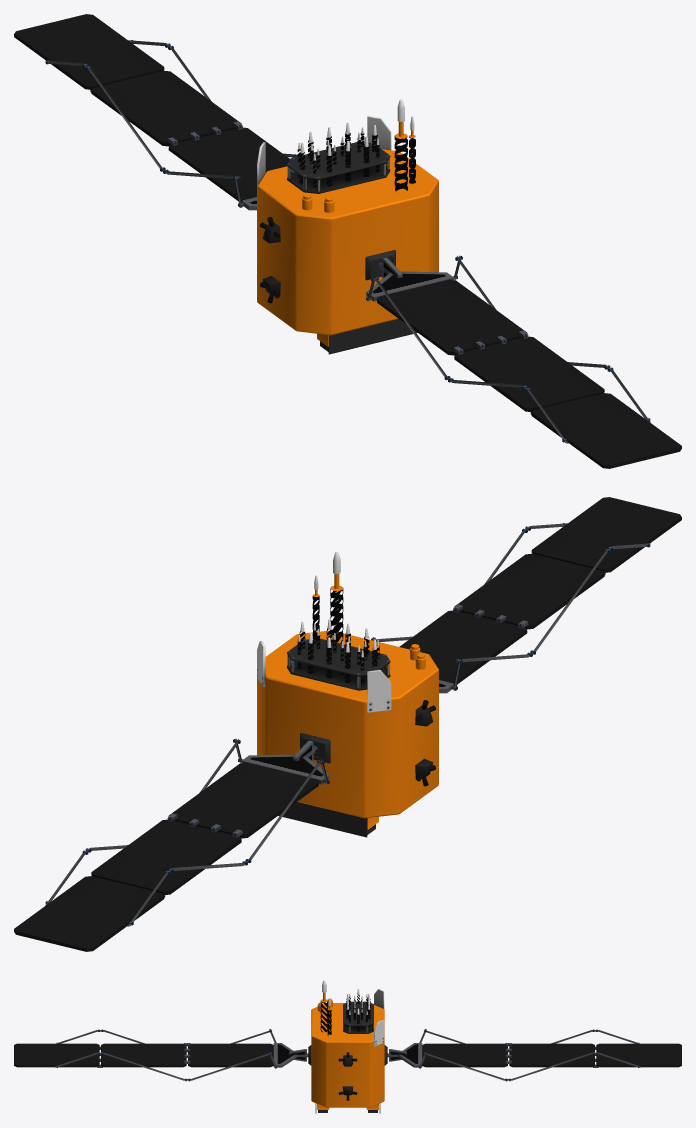
File: satellite.obj
3 renders of one model, top to bottom at view 1: azimuth 30°, elevation 25°; view 2: azimuth 150°, elevation 25°; view 3: azimuth 270°, elevation 25°, orthographic. The views are drawn at different scales.
Parts seen in each view (by area): view 1: Geometry-frameNode, Geometry-SatelliteNode; view 2: Geometry-frameNode, Geometry-SatelliteNode; view 3: Geometry-frameNode, Geometry-SatelliteNode.
Part boxes in pixels (left/top/right/bottom): Geometry-frameNode: left=14, top=14, right=681, bottom=468; Geometry-SatelliteNode: left=257, top=99, right=438, bottom=354; Geometry-frameNode: left=14, top=497, right=681, bottom=951; Geometry-SatelliteNode: left=257, top=552, right=438, bottom=837; Geometry-frameNode: left=14, top=1029, right=681, bottom=1081; Geometry-SatelliteNode: left=308, top=980, right=387, bottom=1113.
Size of the model in its own units: 1.45 by 1.94 by 9.09.
Materials: 9 (6 with a texture image).
